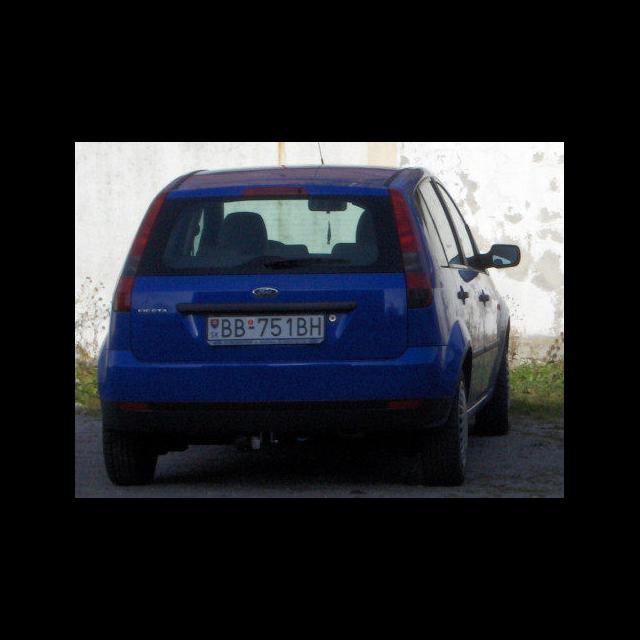Plate: (206, 312, 326, 343)
